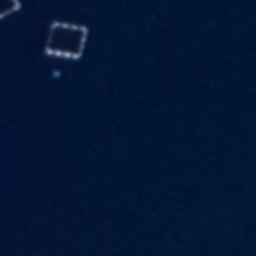square_solid: (39, 17, 92, 63)
